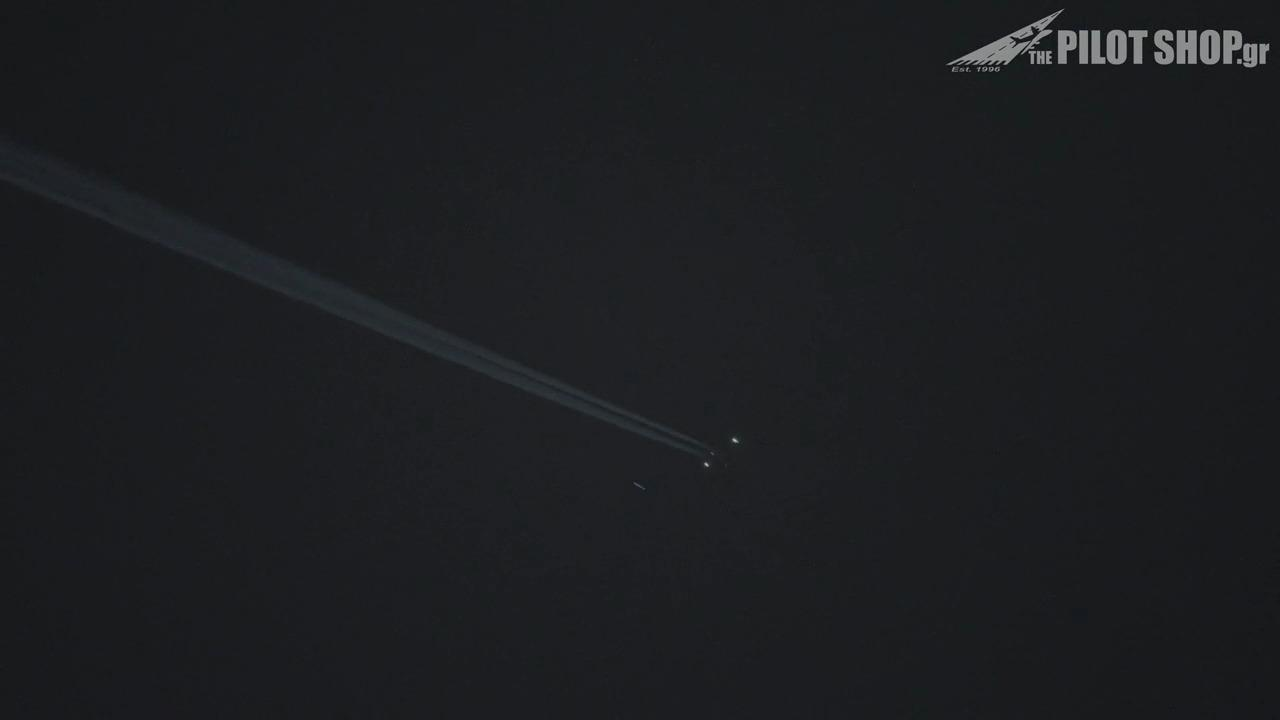Plane: (650, 409, 757, 482)
